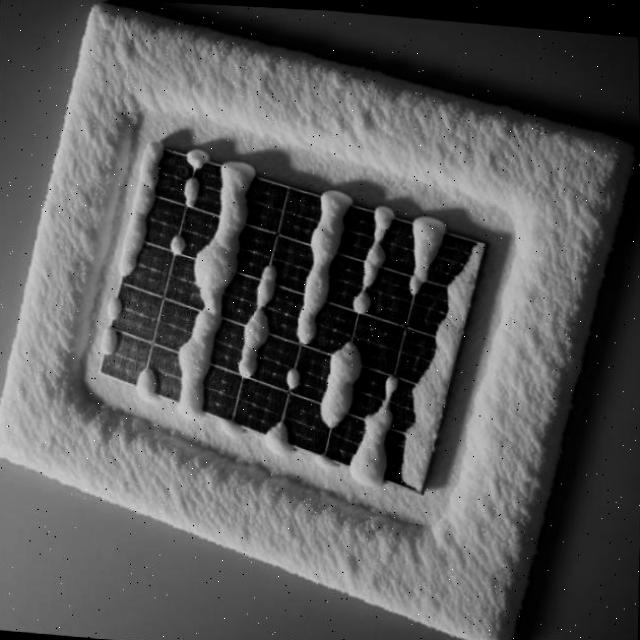Anomaly Solar Panel: (90, 145, 483, 492)
Snow: (388, 232, 489, 490), (159, 165, 261, 410), (283, 195, 350, 346), (228, 261, 290, 382), (118, 145, 167, 282), (348, 367, 406, 478), (314, 334, 367, 432), (397, 221, 447, 298), (361, 210, 394, 288), (134, 365, 162, 395), (265, 418, 295, 446), (351, 288, 374, 317), (183, 178, 200, 209), (103, 327, 119, 359), (284, 366, 301, 392), (110, 297, 124, 324), (183, 156, 208, 170), (168, 235, 185, 255)
